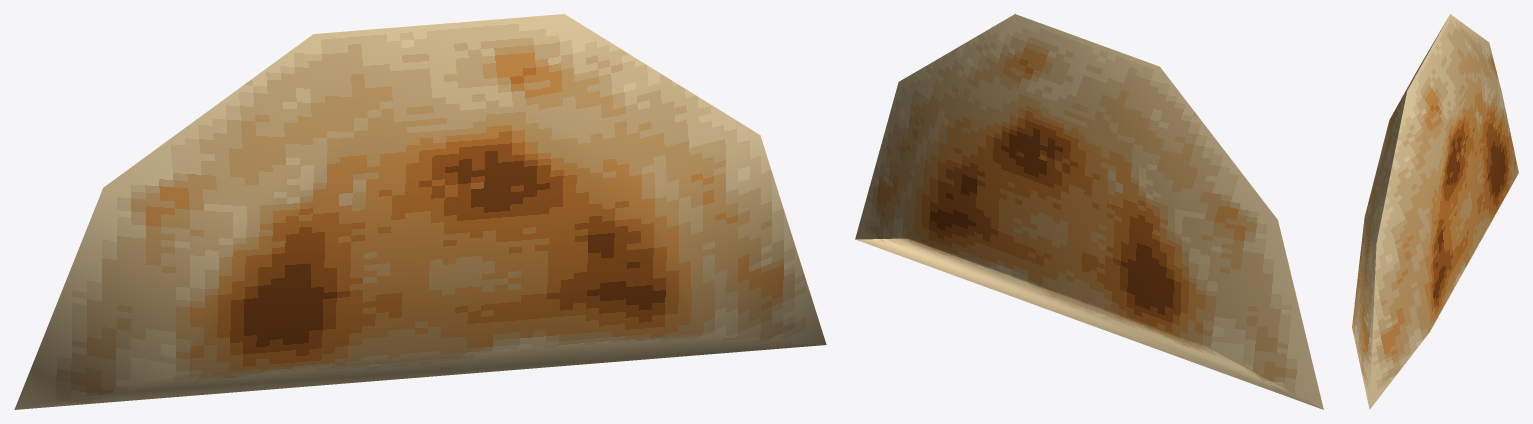
File: H_Perogies.fbx
The picture shows the model from 3 angles, left to right: view 1: azimuth 30°, elevation 25°; view 2: azimuth 150°, elevation 25°; view 3: azimuth 270°, elevation 25°; orthographic projection. The views are drawn at different scales.
Visible parts, largest first — view 1: Perogies; view 2: Perogies; view 3: Perogies.
Part boxes in pixels (x1,y1,x2,y2): Perogies: (14,14,826,409); Perogies: (855,14,1323,409); Perogies: (1352,14,1518,409).
Size of the model in its own units: 21.52 by 10.96 by 6.64.
